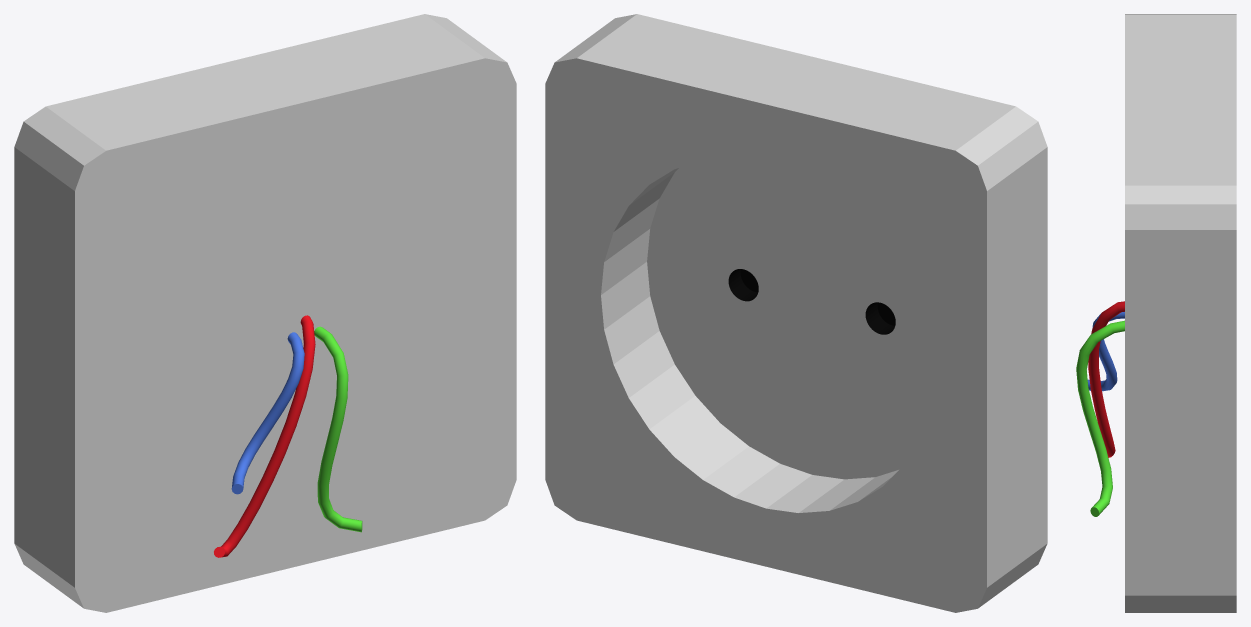
Rendered from steckdose.fbx.
3 views of the same model, side by side, from view 1: azimuth 30°, elevation 25°; view 2: azimuth 150°, elevation 25°; view 3: azimuth 270°, elevation 25° (orthographic). The views are drawn at different scales.
Parts seen in each view (by area): view 1: BézierCurve.003; view 2: BézierCurve.003; view 3: BézierCurve.003.
Boxes of the visible parts, box(x1,y1,x2,y2) form: BézierCurve.003: box(14, 14, 516, 612); BézierCurve.003: box(545, 14, 1047, 612); BézierCurve.003: box(1076, 14, 1236, 612).
Size of the model in its own units: 9.35 by 9.35 by 3.19.
